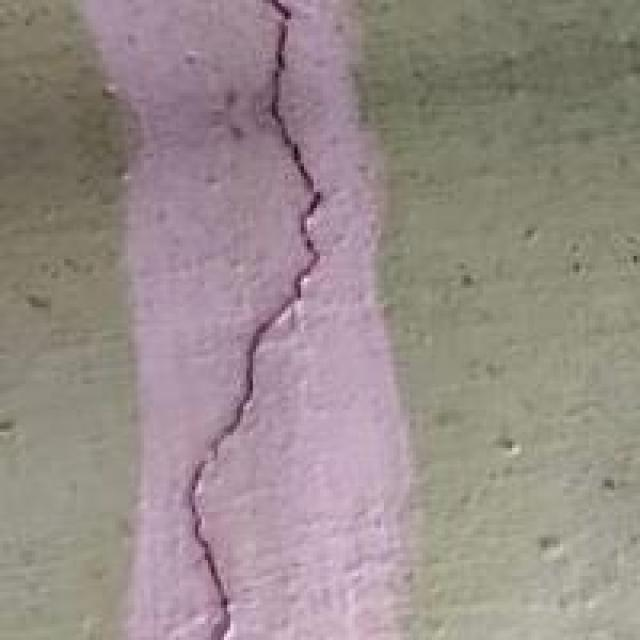Crack: (115, 0, 378, 637)
